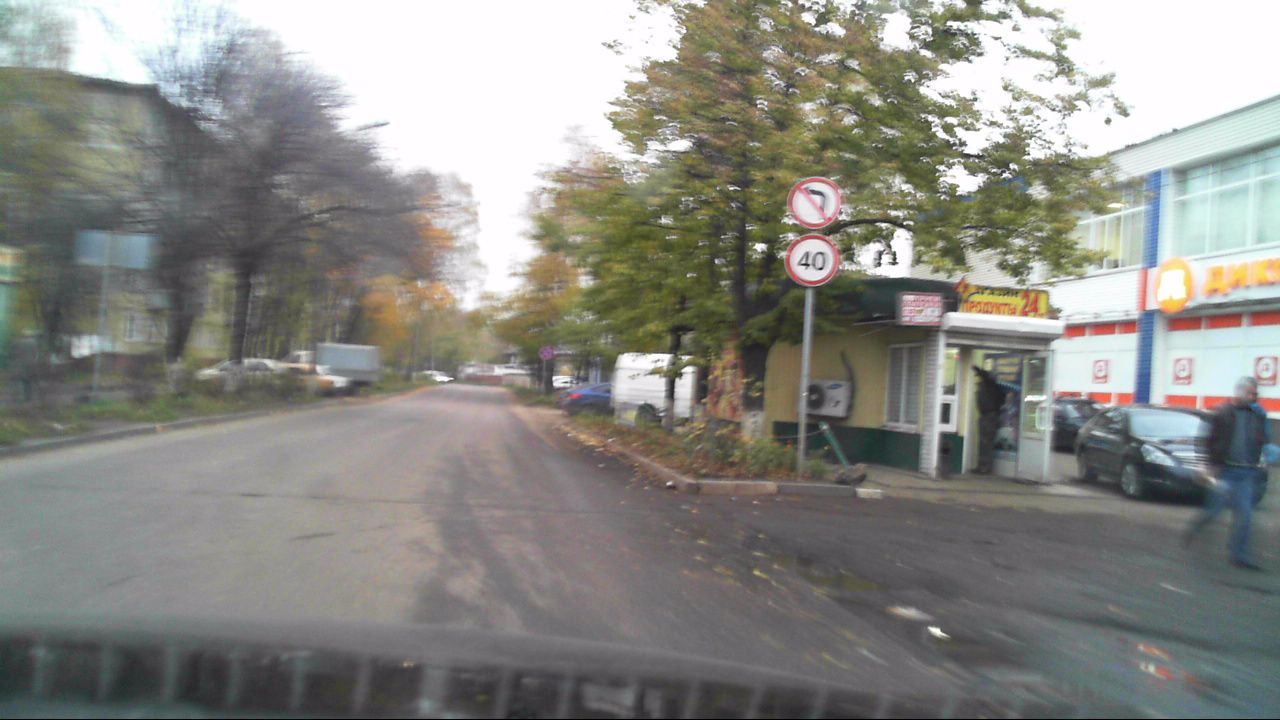speed_warning_40: (785, 234, 838, 288)
